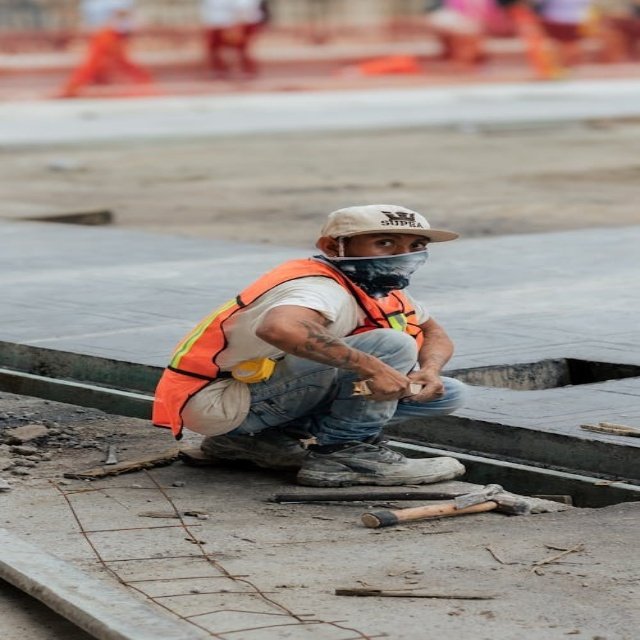Mascara: (330, 248, 429, 291)
Sin_gafas: (352, 238, 433, 253)
Sin_guantes: (356, 362, 416, 400), (398, 373, 445, 404)
